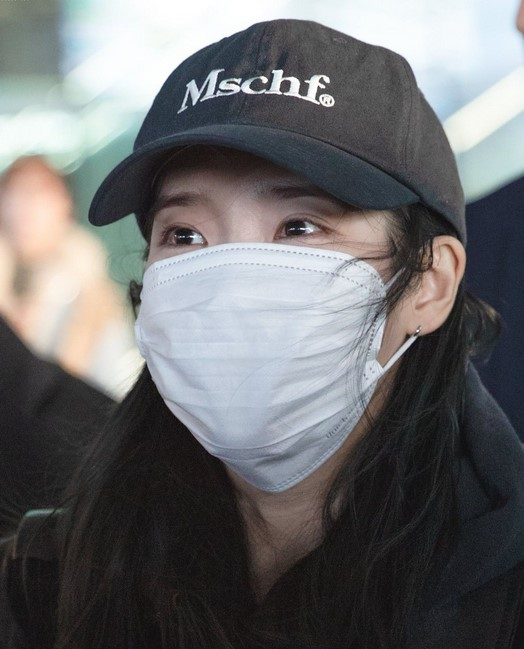face_with_mask: (88, 14, 474, 503)
